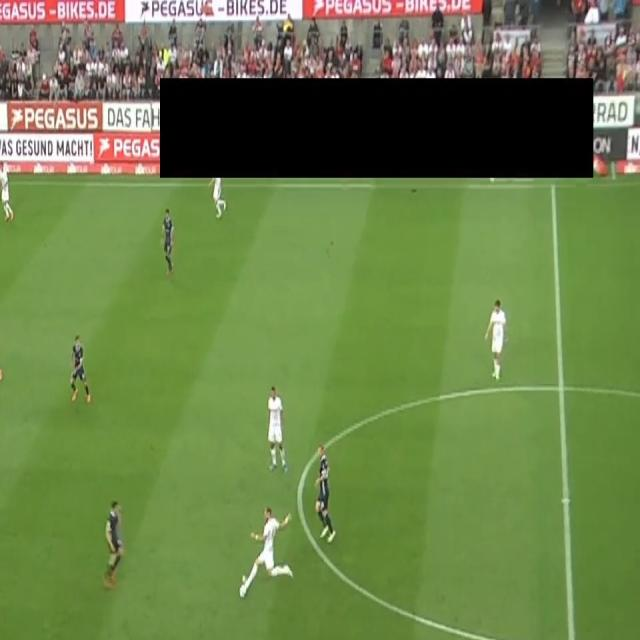ball: (238, 582, 248, 600)
